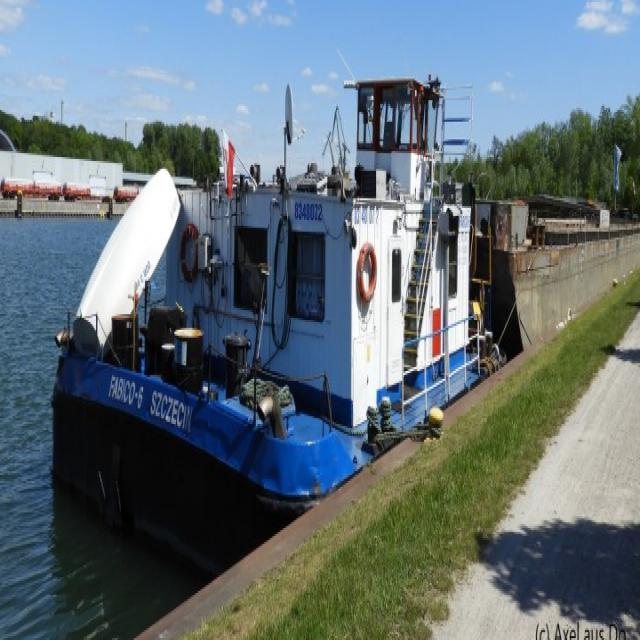tugboat: (47, 70, 511, 592)
